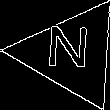N_S: (47, 27, 95, 80)
